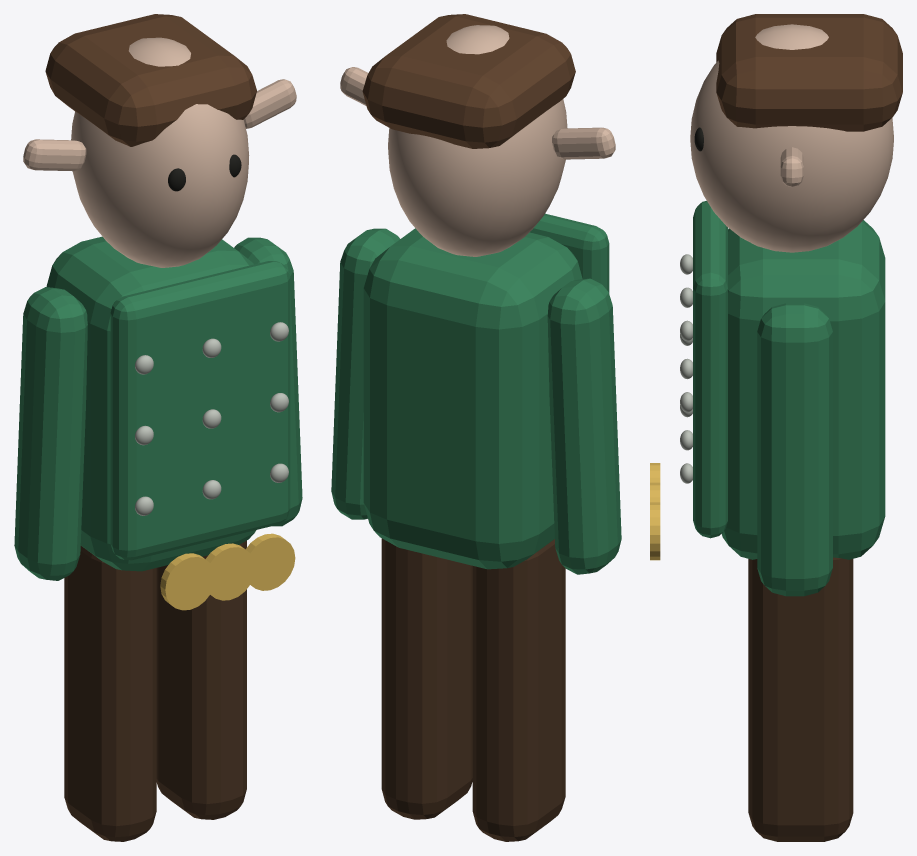
The model's file is rhune_4176.glb.
3 renders of one model, left to right at view 1: azimuth 30°, elevation 25°; view 2: azimuth 150°, elevation 25°; view 3: azimuth 270°, elevation 25°, orthographic.
Visible parts, largest first — view 1: Fitted leather jerkin, Booted leg, Head, Booted leg.001, Detailed arm, Hair, Fitted torso, Detailed arm.001, Coin, Coin.002, Coin.001, Pointed elven ear (+1 smaller); view 2: Fitted torso, Booted leg, Booted leg.001, Hair, Head, Detailed arm, Detailed arm.001, Fitted leather jerkin, Pointed elven ear, Pointed elven ear.001; view 3: Fitted torso, Booted leg.001, Head, Detailed arm.001, Hair, Fitted leather jerkin, Pointed elven ear.001, Coin.002.
Boxes of the visible parts, bbox=[...] form: Fitted leather jerkin: bbox=[110, 261, 290, 560]; Booted leg: bbox=[64, 546, 156, 841]; Head: bbox=[71, 37, 249, 267]; Booted leg.001: bbox=[156, 540, 246, 819]; Detailed arm: bbox=[14, 287, 87, 580]; Hair: bbox=[45, 14, 256, 146]; Fitted torso: bbox=[46, 236, 256, 571]; Detailed arm.001: bbox=[234, 237, 302, 526]; Coin: bbox=[160, 553, 215, 610]; Coin.002: bbox=[245, 533, 295, 590]; Coin.001: bbox=[205, 543, 250, 600]; Pointed elven ear: bbox=[23, 139, 86, 171]; Fitted torso: bbox=[363, 228, 582, 569]; Booted leg: bbox=[472, 539, 565, 841]; Booted leg.001: bbox=[381, 538, 472, 819]; Hair: bbox=[362, 14, 575, 148]; Head: bbox=[388, 25, 567, 256]; Detailed arm: bbox=[547, 278, 621, 574]; Detailed arm.001: bbox=[331, 228, 399, 519]; Fitted leather jerkin: bbox=[529, 213, 609, 293]; Pointed elven ear: bbox=[552, 127, 615, 159]; Pointed elven ear.001: bbox=[340, 67, 368, 105]; Fitted torso: bbox=[721, 220, 885, 559]; Booted leg.001: bbox=[748, 557, 853, 841]; Head: bbox=[690, 24, 893, 252]; Detailed arm.001: bbox=[757, 303, 832, 596]; Hair: bbox=[716, 14, 902, 131]; Fitted leather jerkin: bbox=[693, 200, 727, 538]; Pointed elven ear.001: bbox=[780, 147, 803, 187]; Coin.002: bbox=[650, 502, 660, 560].
Bounding box in the file's own units: 1.08 × 2.97 × 0.8675.
